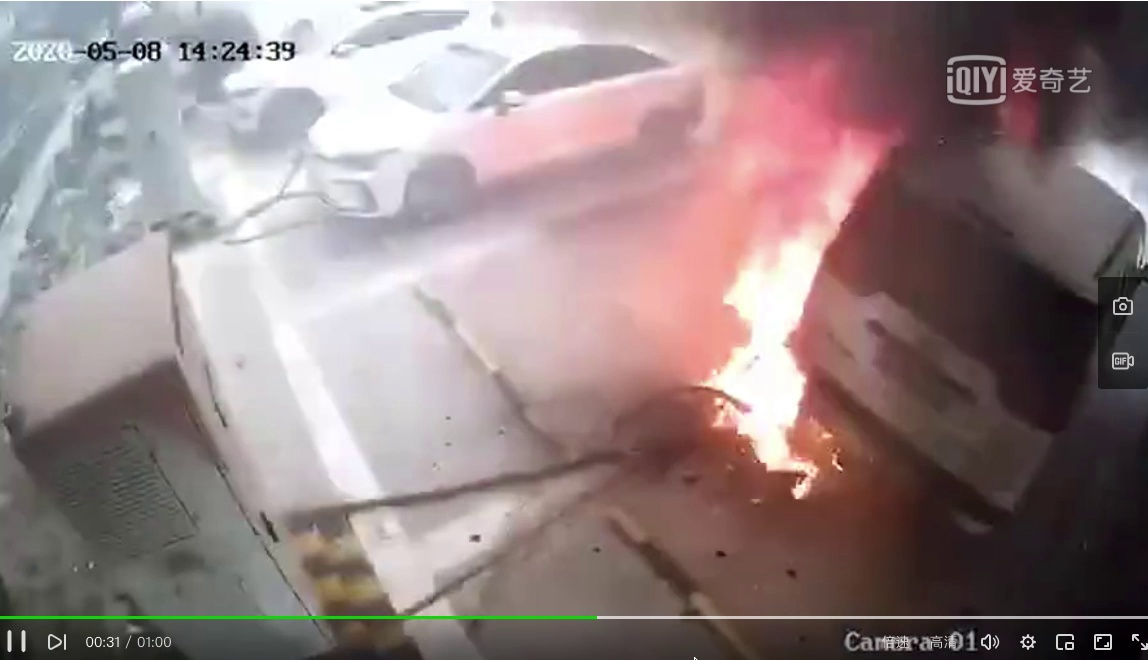fire: (708, 205, 854, 499)
